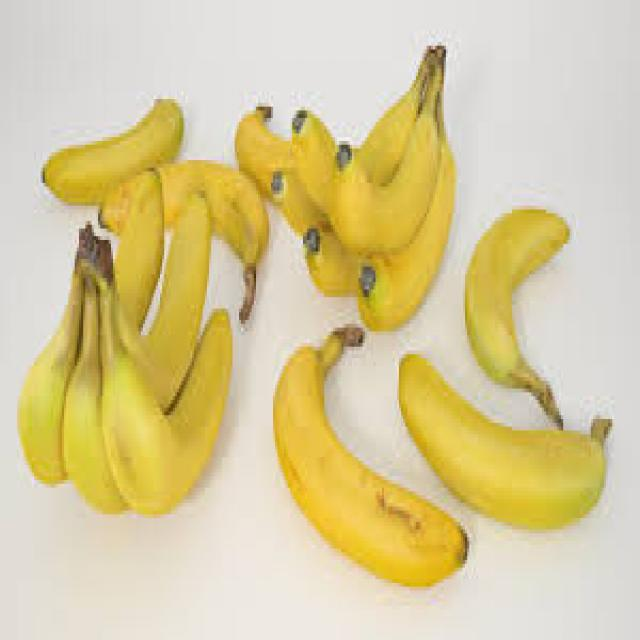organic waste: (269, 320, 467, 598), (60, 187, 209, 514), (11, 225, 177, 484), (395, 347, 614, 533), (96, 229, 237, 514), (320, 49, 480, 244), (88, 164, 273, 316), (281, 50, 446, 214), (463, 202, 570, 427), (134, 156, 271, 324), (38, 91, 184, 202), (346, 248, 465, 342), (231, 99, 290, 206), (294, 225, 360, 301), (268, 168, 330, 221)
